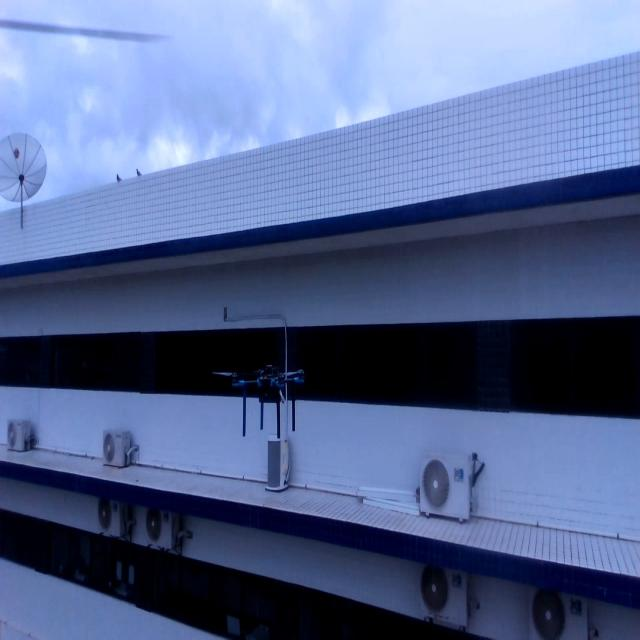-uav-: (218, 352, 308, 452)
